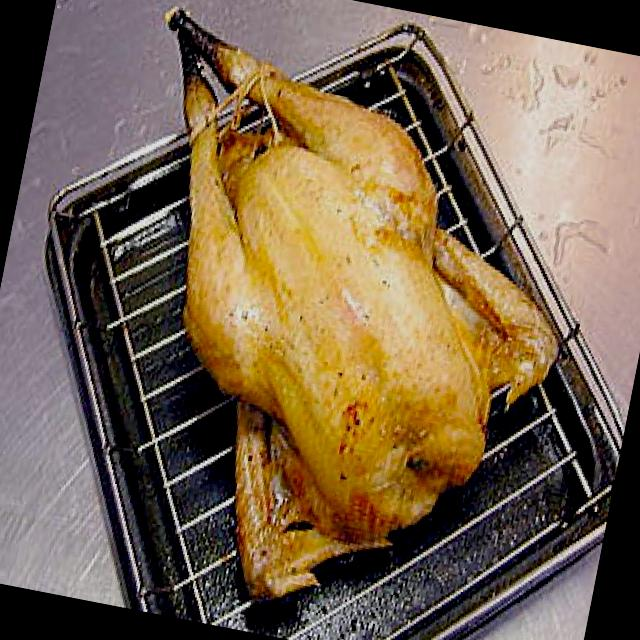Chicken: (57, 54, 596, 640)
